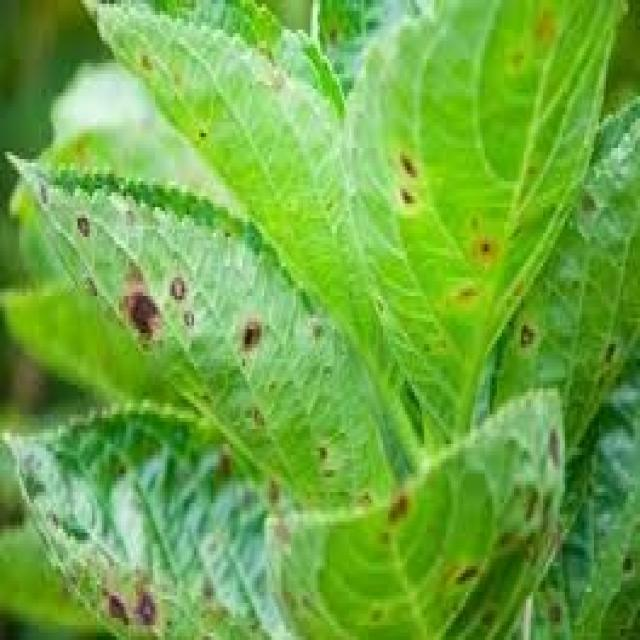bercak_daun: (36, 436, 258, 637)
